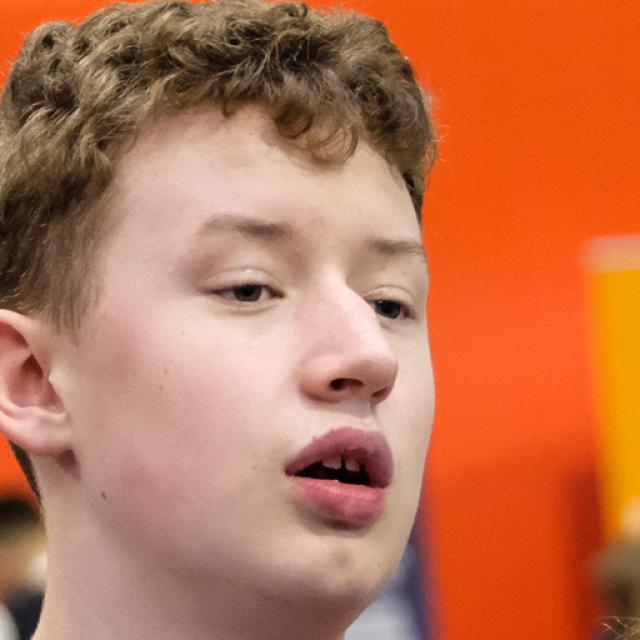surprise: (89, 101, 432, 601)
